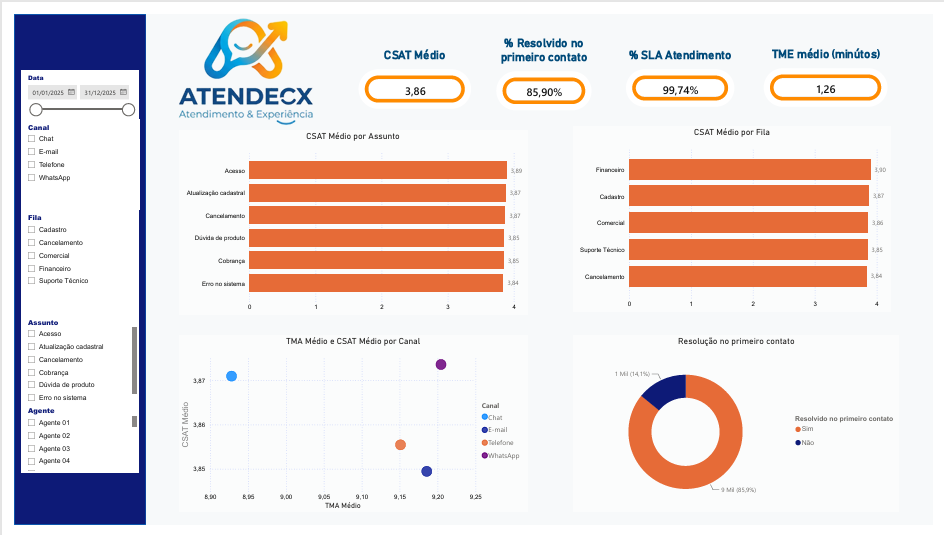

This screenshot's page, from the dashboard's own definition file:
{"tool":"powerbi","page":{"name":"Experiência do cliente","canvas":[1800,1000],"ordinal":1},"visuals":[{"type":"shape","box":[0,0,258,1000],"z":0},{"type":"cardVisual","title":"% Resolvido no primeiro contato","fields":{"Data":["Atendimento.% Resolvido 1º Contato"]},"box":[940,44,196,149],"z":1000},{"type":"cardVisual","title":"CSAT Médio","fields":{"Data":["ABC_Produtos.CSAT Médio"]},"box":[670,66,230,124],"z":2000},{"type":"cardVisual","title":"TME médio (minútos)","fields":{"Data":["ABC_Produtos.TME Médio"]},"box":[1464,64,252,122],"z":3000},{"type":"slicer","fields":{"Values":["Atendimento.Data"]},"box":[14,110,231,95],"z":5000},{"type":"slicer","fields":{"Values":["Atendimento.Canal"]},"box":[14,206,232,178],"z":6000},{"type":"slicer","fields":{"Values":["Atendimento.Agente"]},"box":[14,762,231,137],"z":7000},{"type":"slicer","fields":{"Values":["Atendimento.Assunto"]},"box":[14,588,231,174],"z":8000},{"type":"slicer","fields":{"Values":["Atendimento.Fila"]},"box":[14,384,231,204],"z":9000},{"type":"image","box":[308,0,292,220],"z":10000},{"type":"clusteredBarChart","fields":{"Category":["Atendimento.Assunto"],"Y":["Atendimento.CSAT Médio"]},"box":[322.5,227.5,682.5,362.5],"z":11000},{"type":"clusteredBarChart","fields":{"Y":["Atendimento.CSAT Médio"],"Category":["Atendimento.Fila"]},"box":[1095,220,622.5,362.5],"z":12000},{"type":"scatterChart","fields":{"Y":["Atendimento.CSAT Médio"],"X":["Atendimento.TMA Médio"],"Series":["Atendimento.Canal"]},"box":[322.5,630,682.5,345],"z":13000},{"type":"donutChart","title":"Resolução no primeiro contato","fields":{"Category":["Atendimento.Resolvido_Primeiro_Contato"],"Y":["Atendimento.Total de atendimentos"]},"box":[1095.7,630,638.6,345.7],"z":14000},{"type":"cardVisual","title":"% SLA Atendimento","fields":{"Data":["Atendimento.% SLA Atendido"]},"box":[1194,66,222,120],"z":14001}]}

Visuals, with their boxes in screenshot pixels (x1, y1, x2, y2), scaled from the page's 1800x1000 canvas onto the 944x535 screenshot:
shape: bbox=(0, 0, 135, 534)
"% Resolvido no primeiro contato" cardVisual: bbox=(493, 24, 596, 103)
"CSAT Médio" cardVisual: bbox=(351, 35, 472, 102)
"TME médio (minútos)" cardVisual: bbox=(768, 34, 900, 100)
slicer - Atendimento.Data: bbox=(7, 59, 128, 110)
slicer - Atendimento.Canal: bbox=(7, 110, 129, 205)
slicer - Atendimento.Agente: bbox=(7, 408, 128, 481)
slicer - Atendimento.Assunto: bbox=(7, 315, 128, 408)
slicer - Atendimento.Fila: bbox=(7, 205, 128, 315)
image: bbox=(162, 0, 315, 118)
clusteredBarChart - Atendimento.Assunto x Atendimento.CSAT Médio: bbox=(169, 122, 527, 316)
clusteredBarChart - Atendimento.CSAT Médio x Atendimento.Fila: bbox=(574, 118, 901, 312)
scatterChart - Atendimento.CSAT Médio x Atendimento.TMA Médio: bbox=(169, 337, 527, 522)
"Resolução no primeiro contato" donutChart: bbox=(575, 337, 910, 522)
"% SLA Atendimento" cardVisual: bbox=(626, 35, 743, 100)
